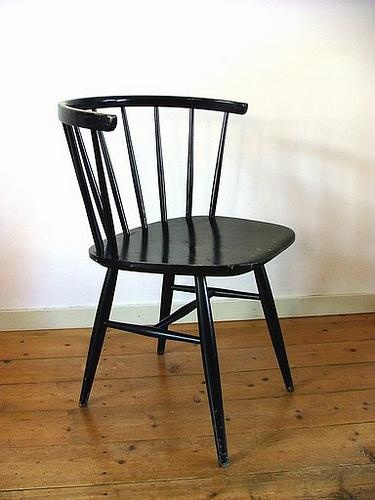obstacle: (58, 95, 294, 464)
